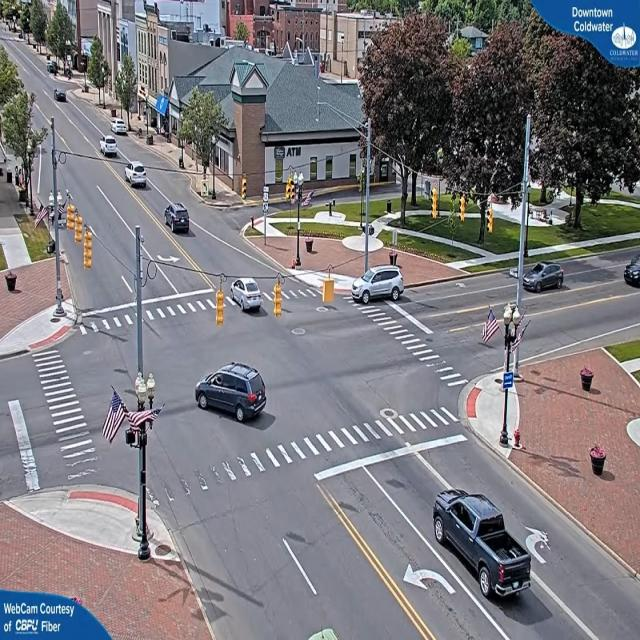car: (432, 488, 536, 605), (194, 363, 268, 424), (357, 268, 405, 306), (524, 261, 566, 293), (229, 278, 267, 312), (163, 203, 191, 236), (124, 162, 149, 189), (100, 136, 120, 158), (624, 260, 640, 287), (112, 119, 129, 136), (55, 89, 67, 103)
